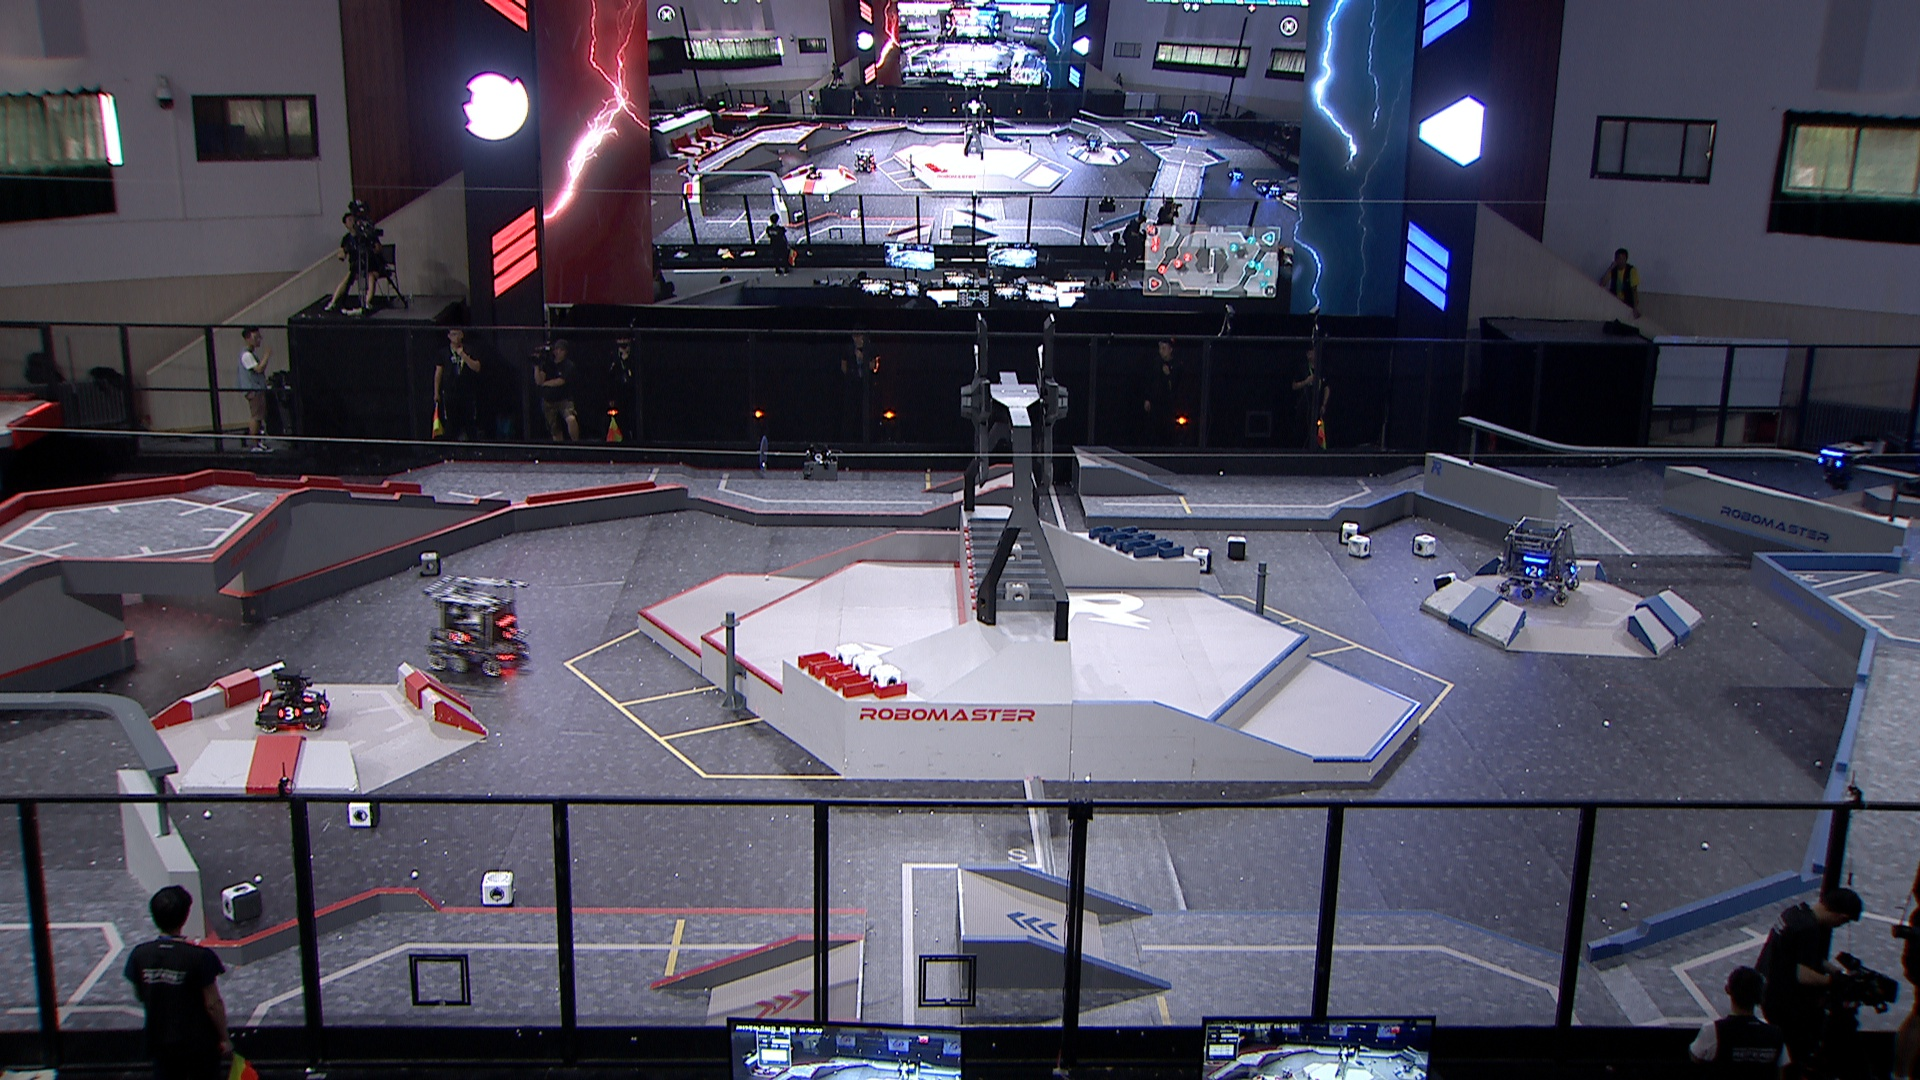armor: (500, 626, 518, 642), (447, 629, 467, 644), (1818, 456, 1840, 469), (1522, 566, 1542, 579), (277, 707, 297, 719), (301, 688, 315, 702), (1567, 560, 1577, 575), (320, 698, 328, 712)
base: (1884, 433, 1920, 500)
car: (425, 568, 533, 679), (1493, 513, 1582, 605), (256, 659, 330, 731)
ignore: (852, 145, 878, 174), (1176, 109, 1197, 133), (1083, 133, 1105, 153), (1261, 178, 1278, 199), (804, 164, 822, 183), (1226, 164, 1244, 183), (1149, 109, 1167, 125)
watcher: (1815, 436, 1865, 496)
